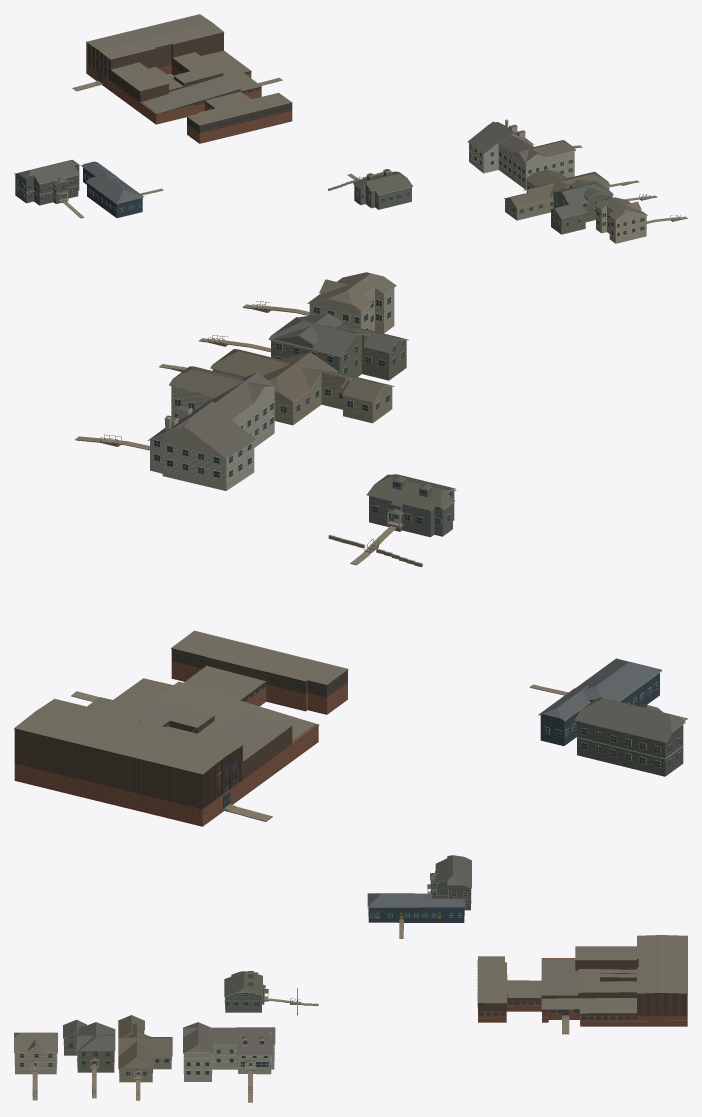
Rendered from site.glb.
The picture shows the model from 3 angles, top to bottom: view 1: azimuth 30°, elevation 25°; view 2: azimuth 150°, elevation 25°; view 3: azimuth 270°, elevation 25°; orthographic projection. The views are drawn at different scales.
Visible parts, largest first — view 1: roof-c82780ef, roof-b74469f2, roof-77b9b163, university-1940, university-1960, roof-09fb4f67, roof-b6ce8f92, university-1976, potter-university-approaches; view 2: roof-c82780ef, roof-b74469f2, university-1940, roof-77b9b163, university-1960, roof-b6ce8f92, roof-09fb4f67, university-1976, potter-university-approaches; view 3: roof-c82780ef, roof-b74469f2, university-1940, roof-09fb4f67, university-1960, university-1976, roof-77b9b163, roof-b6ce8f92, potter-university-approaches.
Boxes of the visible parts, x1,y1,x2,y2 form: roof-c82780ef: [86, 14, 292, 143]; roof-b74469f2: [467, 119, 575, 189]; roof-77b9b163: [14, 159, 80, 205]; university-1940: [504, 169, 610, 220]; university-1960: [550, 179, 613, 234]; roof-09fb4f67: [81, 161, 143, 218]; roof-b6ce8f92: [328, 169, 413, 209]; university-1976: [594, 197, 647, 243]; potter-university-approaches: [62, 74, 687, 223]; roof-c82780ef: [14, 630, 348, 826]; roof-b74469f2: [147, 366, 276, 490]; university-1940: [210, 349, 394, 425]; roof-77b9b163: [574, 697, 685, 776]; university-1960: [268, 313, 408, 380]; roof-b6ce8f92: [328, 474, 456, 567]; roof-09fb4f67: [538, 658, 662, 745]; university-1976: [307, 272, 396, 333]; potter-university-approaches: [71, 301, 687, 821]; roof-c82780ef: [477, 935, 687, 1026]; roof-b74469f2: [183, 1022, 275, 1081]; university-1940: [118, 1015, 172, 1082]; roof-09fb4f67: [367, 893, 465, 922]; university-1960: [63, 1019, 115, 1072]; university-1976: [14, 1032, 57, 1074]; roof-77b9b163: [427, 855, 471, 910]; roof-b6ce8f92: [224, 971, 297, 1015]; potter-university-approaches: [32, 919, 569, 1102].
Bounding box in the file's own units: 165 × 17.18 × 199.
